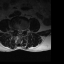CCS_normal: (19, 28, 21, 35)
LFS_stenosis: (23, 27, 24, 33)
LLS_normal: (21, 28, 23, 34)
RFS_stenosis: (15, 27, 17, 32)
RLS_normal: (17, 28, 19, 34)
